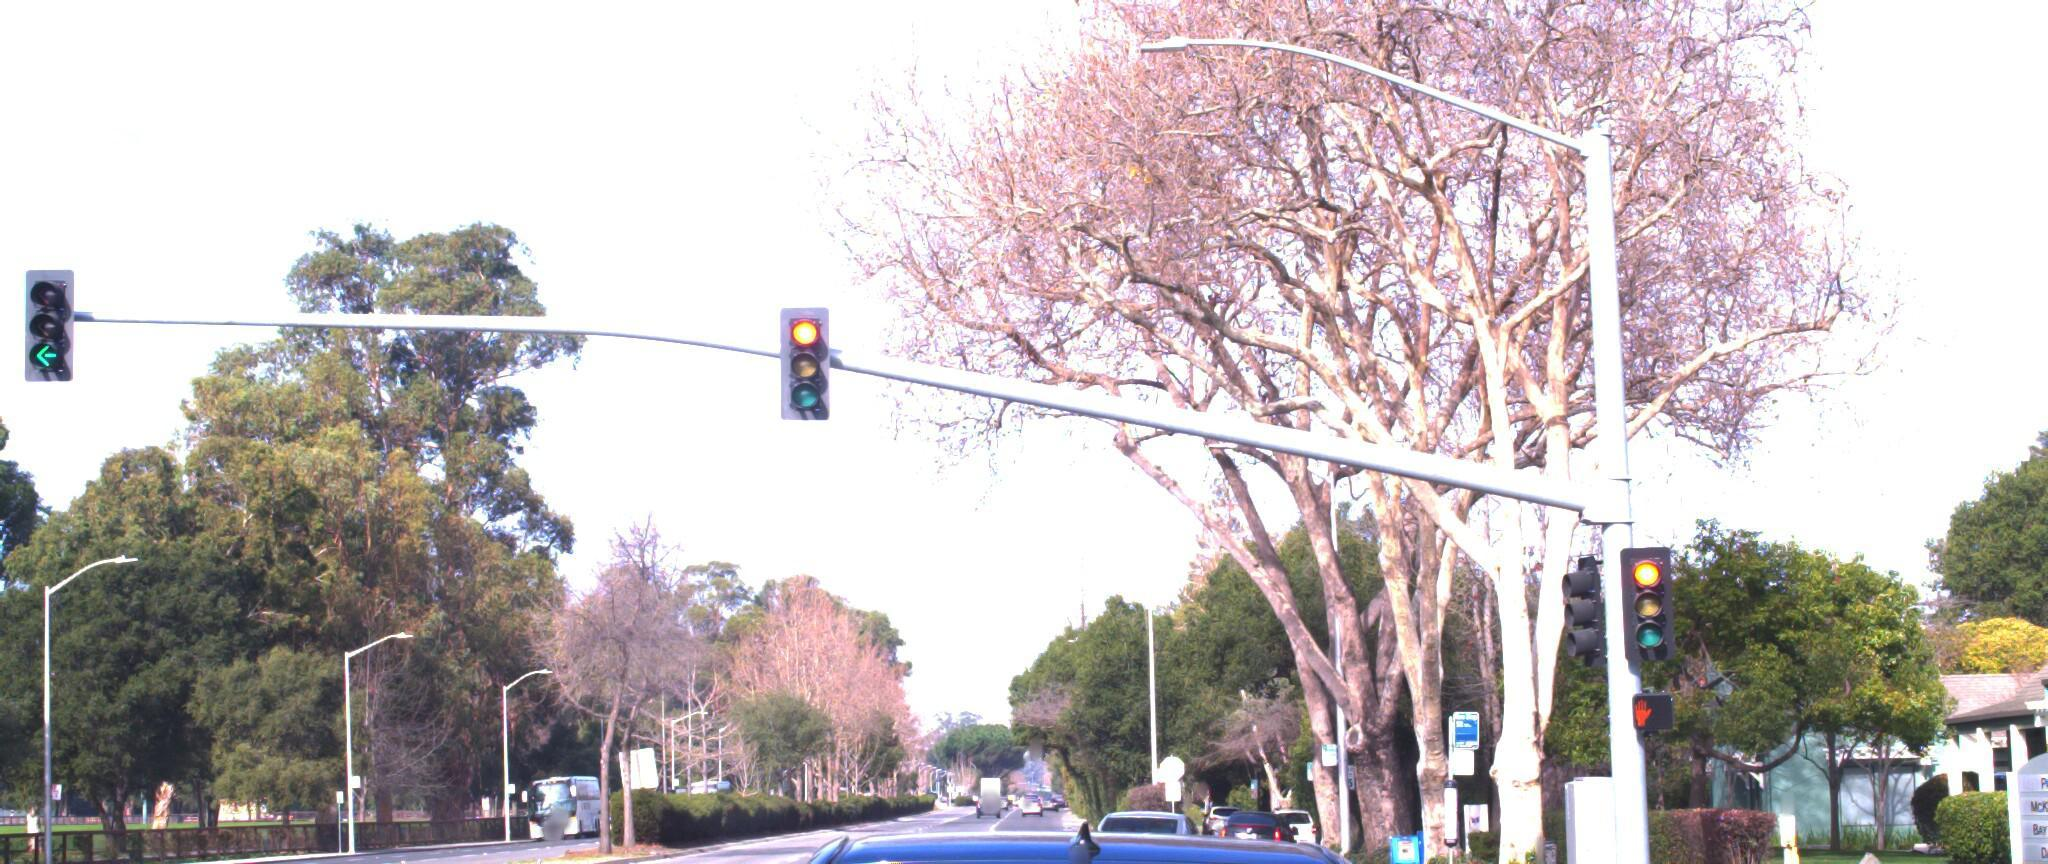car: (566, 810, 1629, 864), (1068, 779, 1226, 864)
